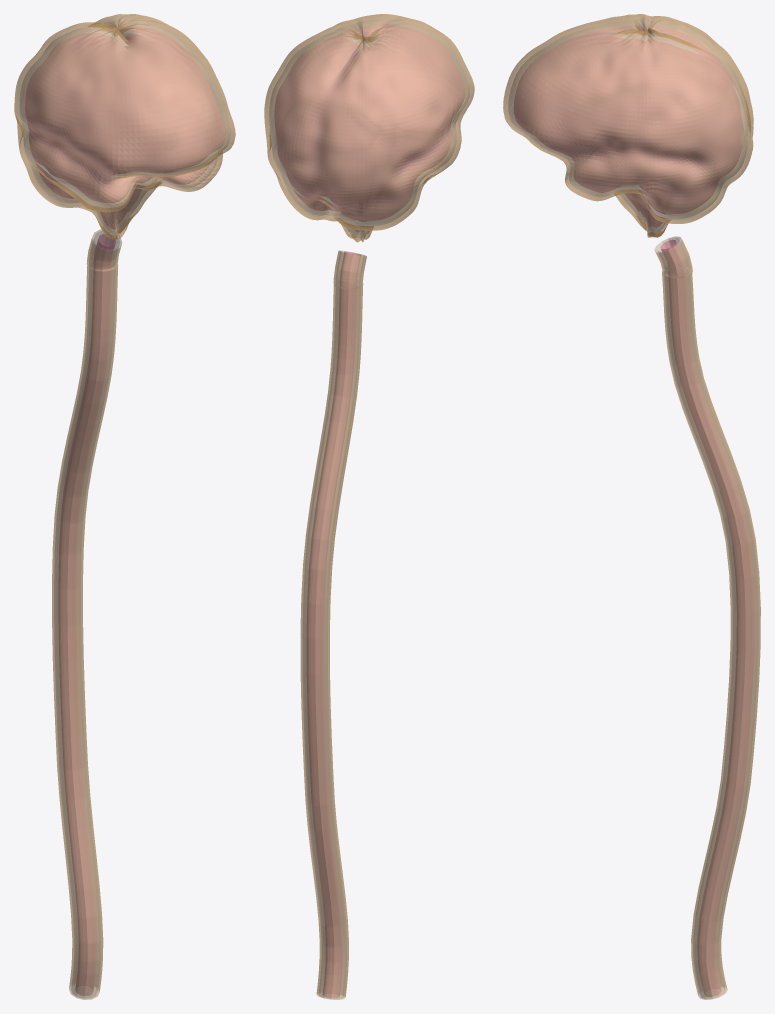
Rendered from brain-mening.glb.
3 views of the same model, side by side, from view 1: azimuth 30°, elevation 25°; view 2: azimuth 150°, elevation 25°; view 3: azimuth 270°, elevation 25° (orthographic). The views are drawn at different scales.
Parts seen in each view (by area): view 1: dura, arachnoid, pia; view 2: dura, arachnoid, pia; view 3: dura, arachnoid, pia.
Part boxes in pixels (left/top/right/bottom): dura: left=14, top=14, right=235, bottom=999; arachnoid: left=20, top=19, right=230, bottom=998; pia: left=25, top=25, right=225, bottom=995; dura: left=264, top=14, right=474, bottom=999; arachnoid: left=269, top=19, right=469, bottom=998; pia: left=274, top=24, right=465, bottom=997; dura: left=503, top=14, right=760, bottom=999; arachnoid: left=508, top=19, right=758, bottom=998; pia: left=514, top=25, right=754, bottom=996.
Bounding box in the file's own units: 0.1549 × 0.836 × 0.2011.
